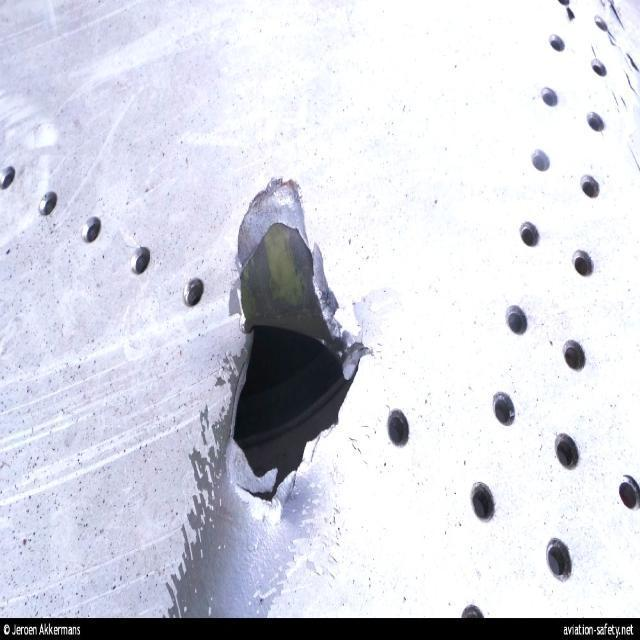crack: (225, 177, 376, 511)
